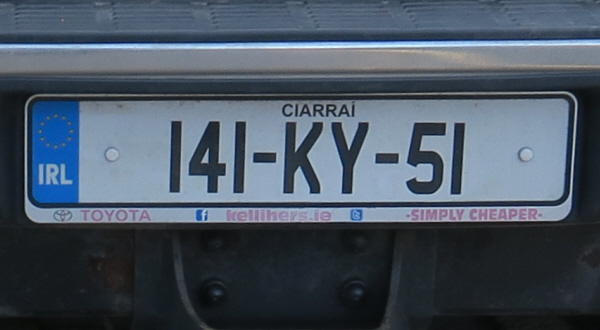license_plate: (27, 96, 574, 208)
